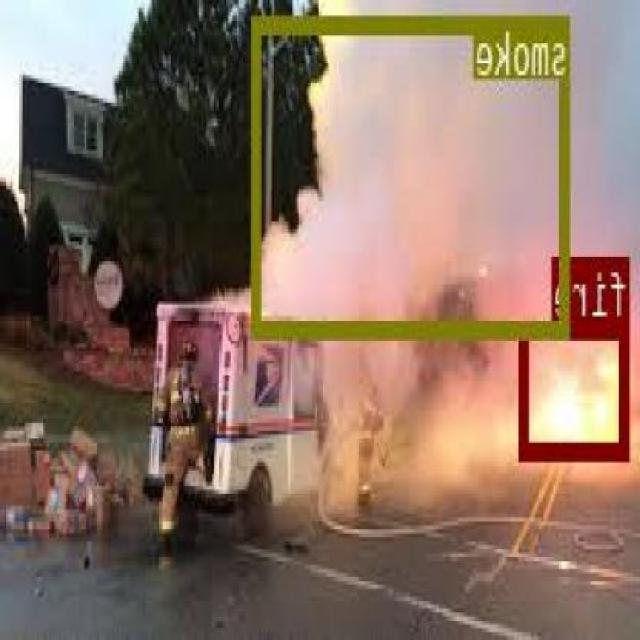Fire: (520, 318, 632, 458)
Smoke: (254, 16, 572, 336)
